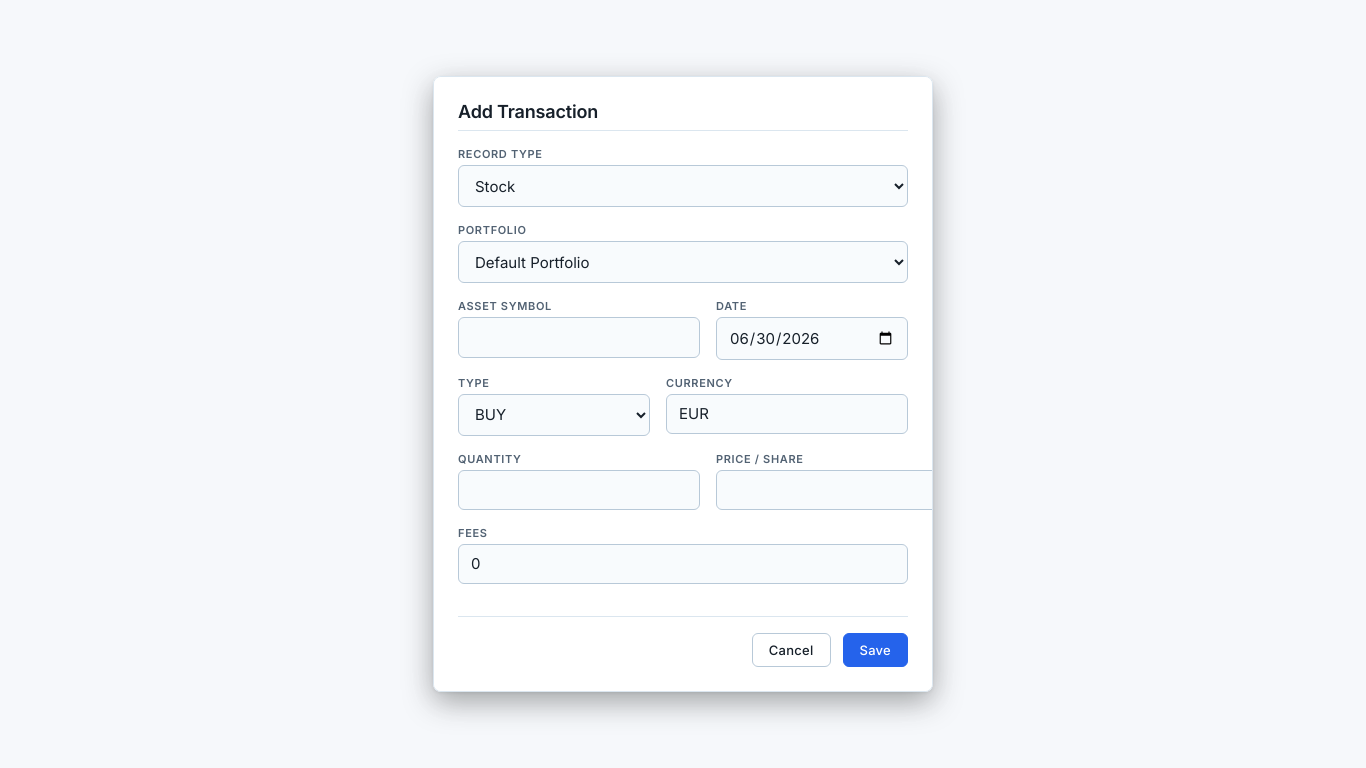
Scenario: TransactionModal STOCK_SPLIT behavior › prevents invalid split ratio submission
Type "AAPL" into the field named "asset_symbol" below "Asset Symbol" at x=579, y=337, box [458,317,700,358]
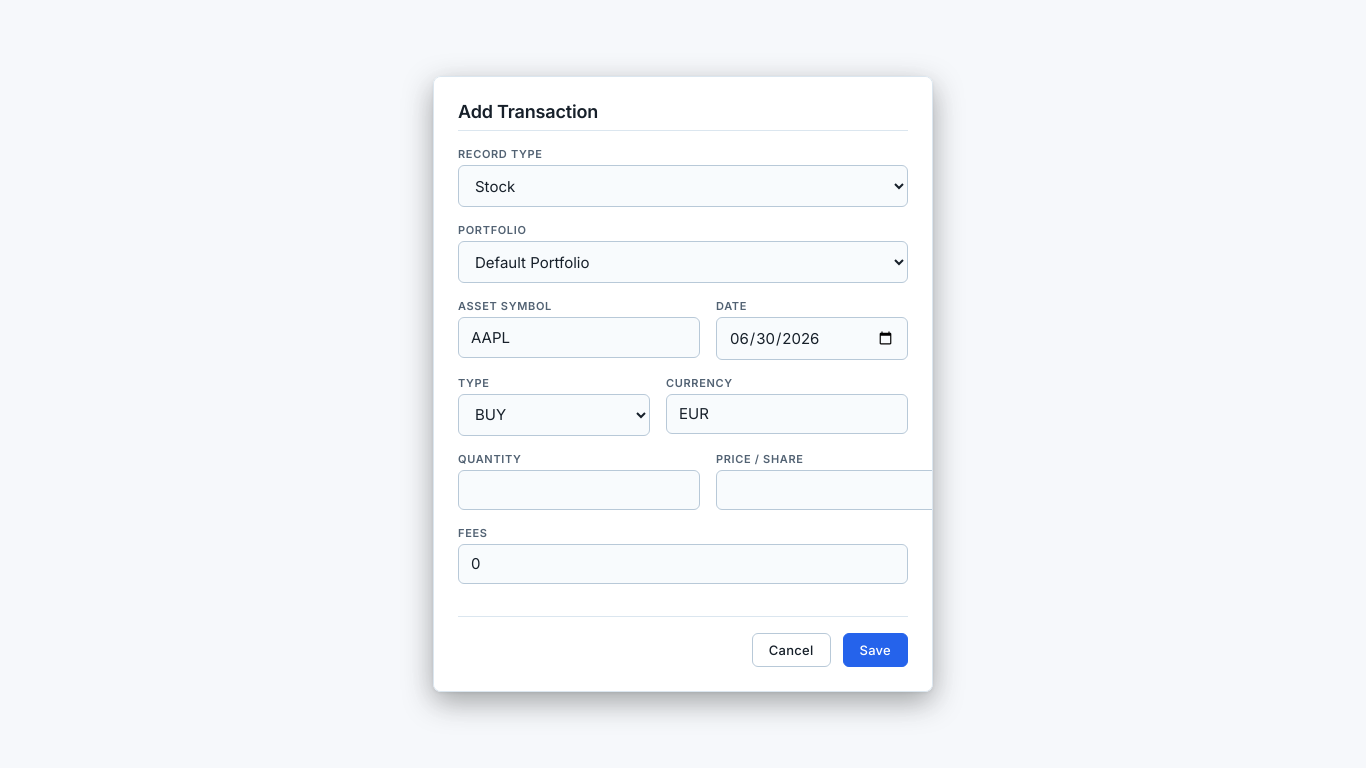
Select "STOCK_SPLIT" in the dropdown named "type" at x=554, y=415, box [458,394,650,436]
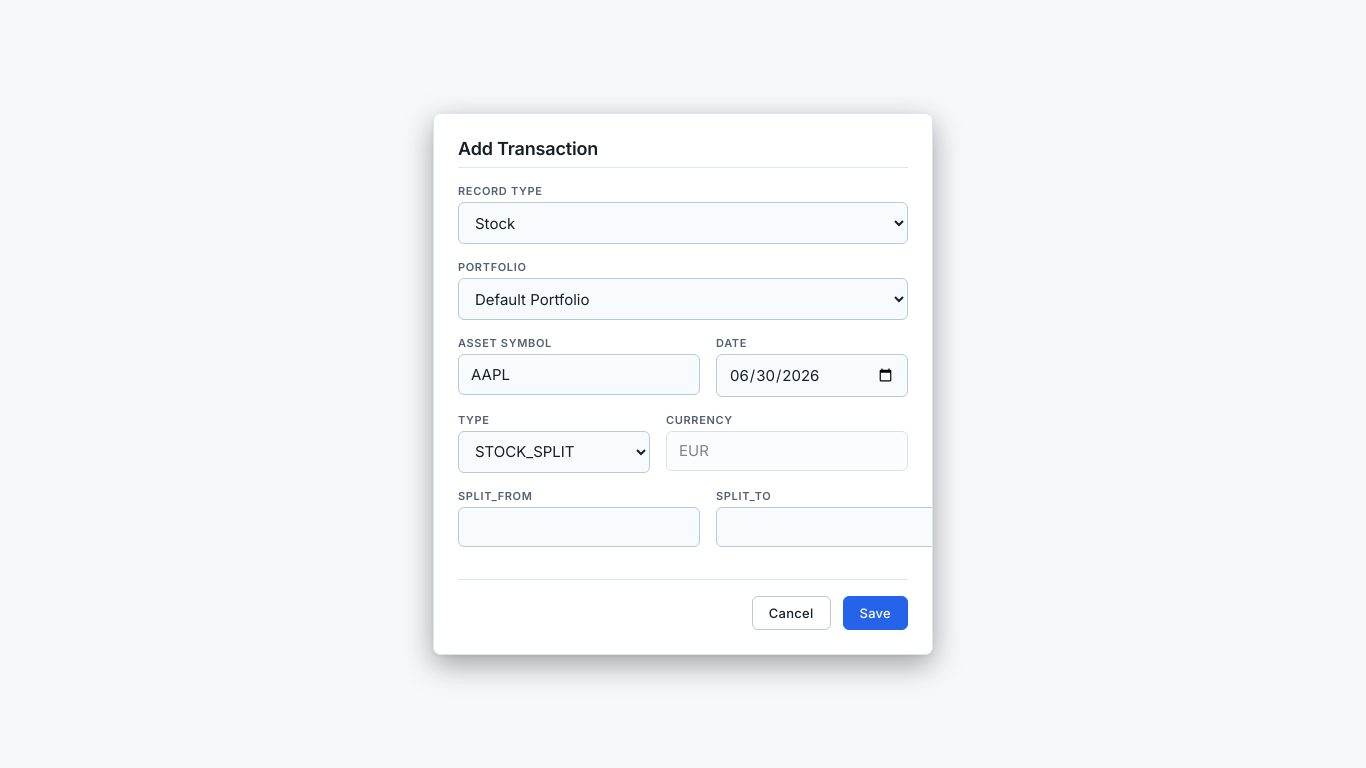
Type "0" into the number field named "split_from" below "split_from" at x=579, y=527, box [458,507,700,547]
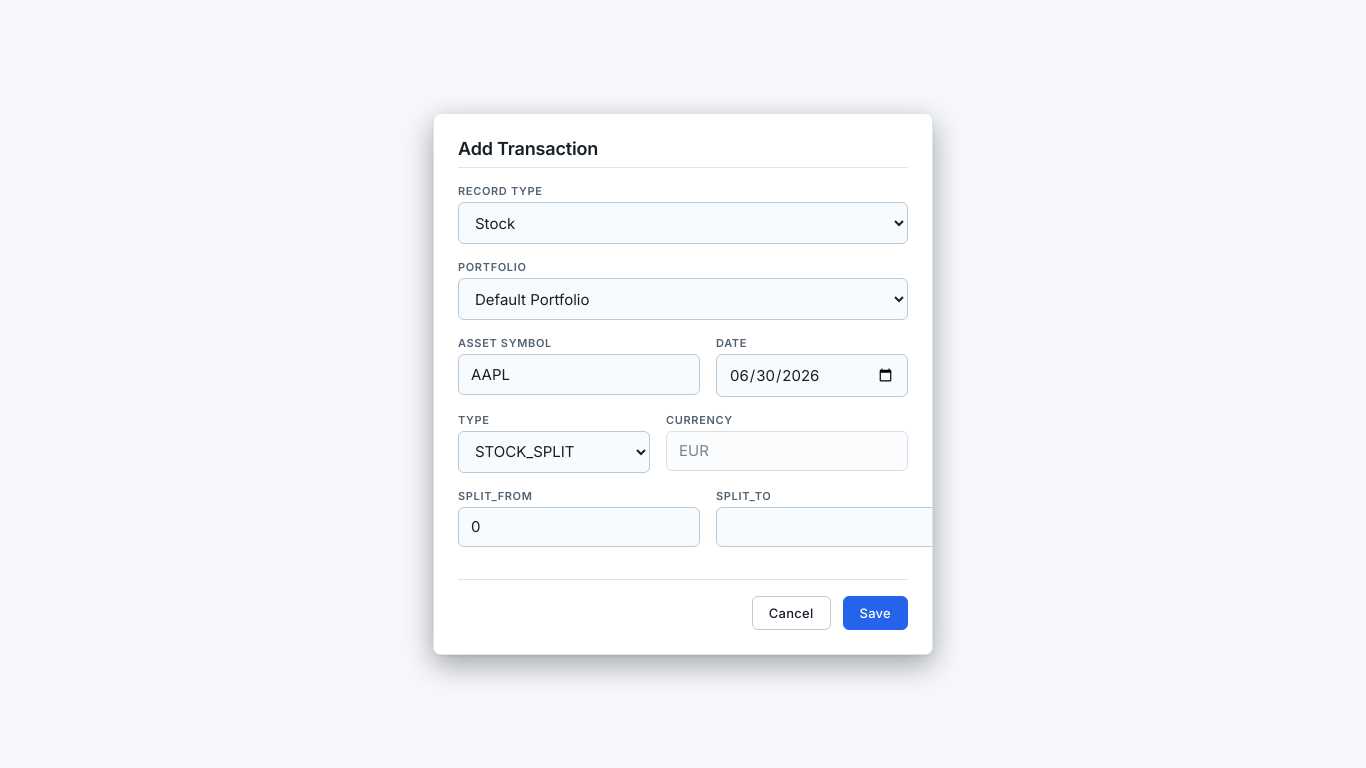
Type "20" into the number field named "split_to" below "split_to" at x=837, y=527, box [716,507,958,547]
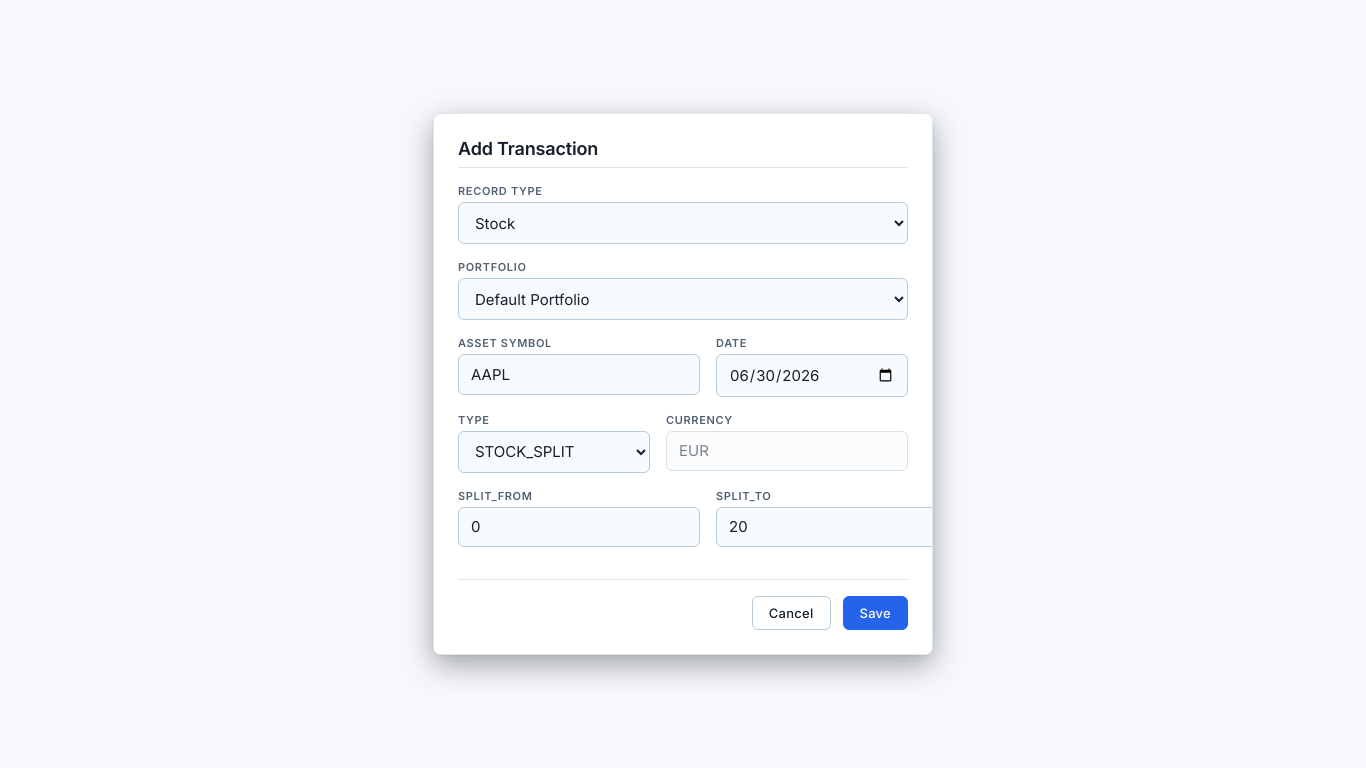
Click the button "Save" at x=875, y=613, box [842,596,908,630]
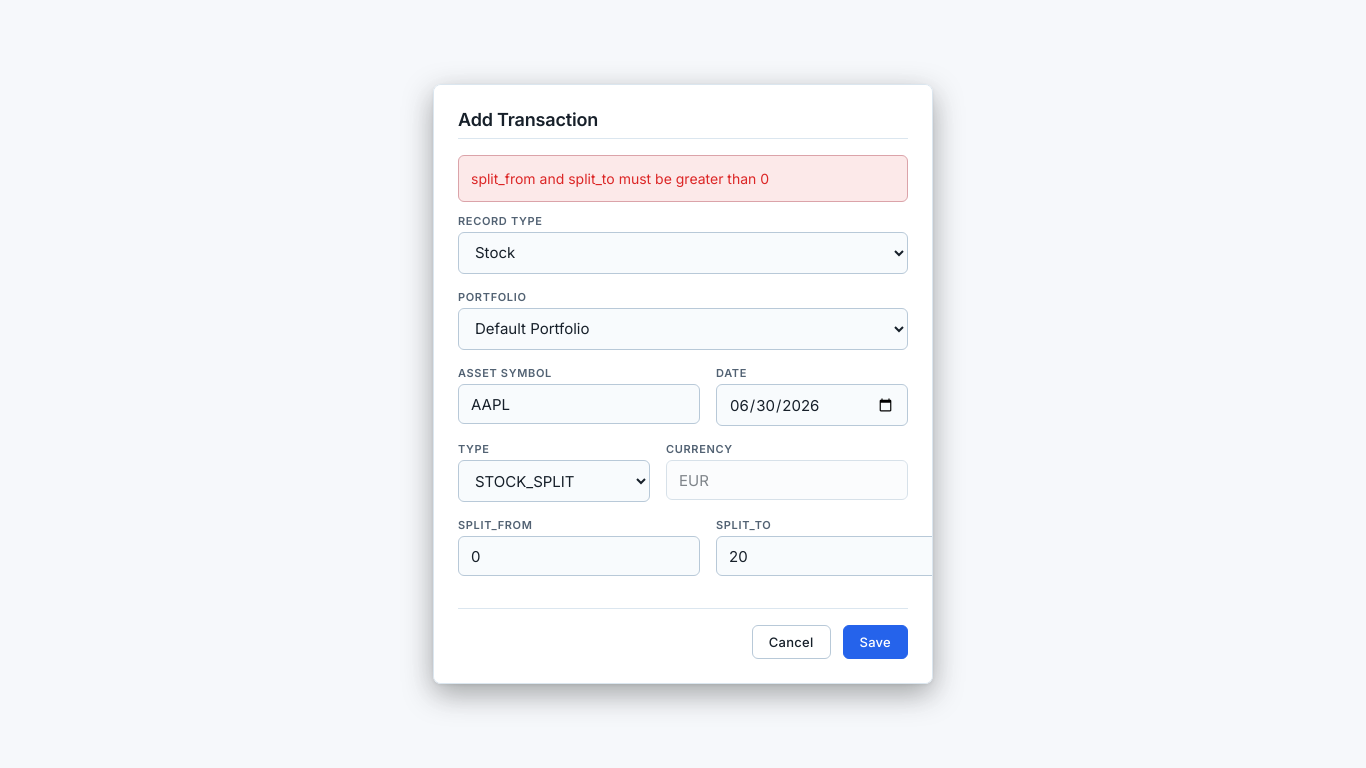
Now the text "split_from and split_to must be greater than 0" is shown, box [458,154,908,202]
